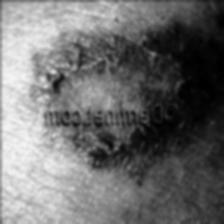Non-Cancerous Skin Condition: (18, 0, 224, 106), (30, 130, 188, 180)
